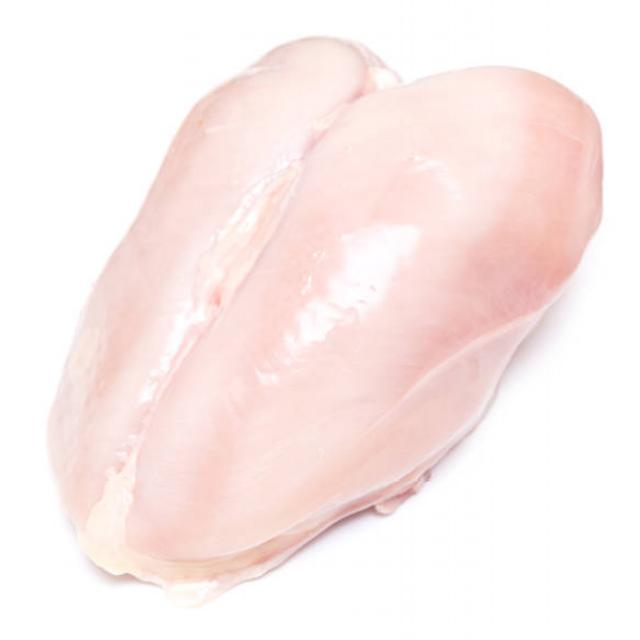Chicken Breast: (54, 15, 604, 614)
